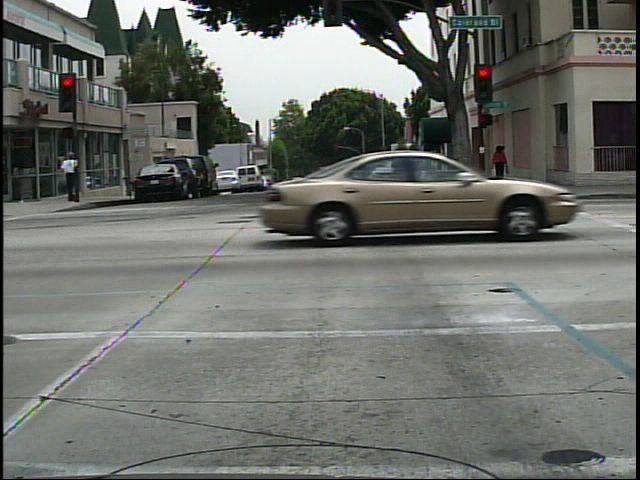person: (485, 139, 515, 192), (58, 143, 80, 207)
